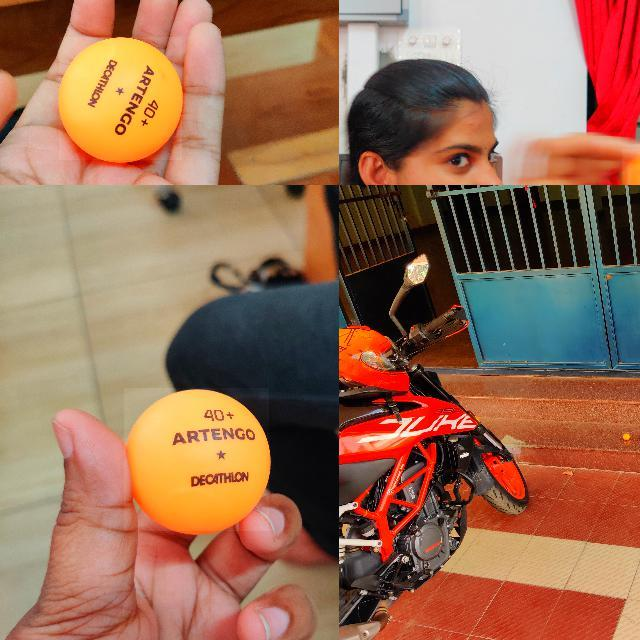ping-pong-ball: (124, 388, 270, 532), (59, 36, 183, 162), (622, 432, 630, 440)
